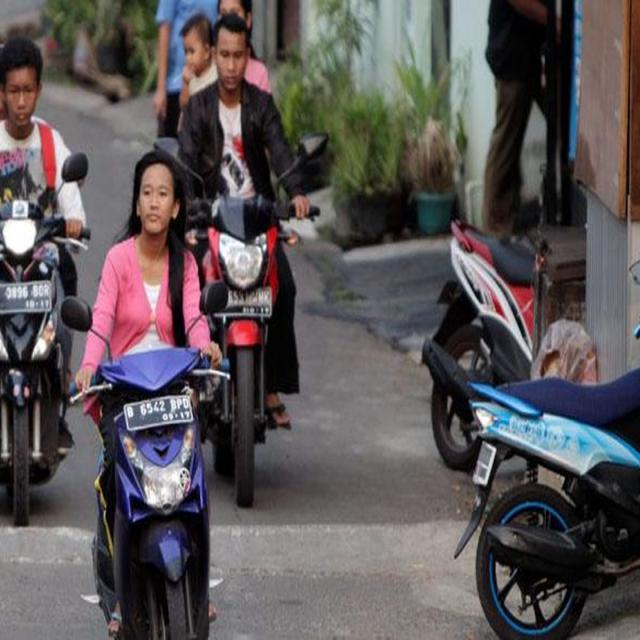Without Helmet: (120, 152, 190, 246), (0, 31, 53, 120), (211, 20, 255, 100), (181, 11, 213, 78)
